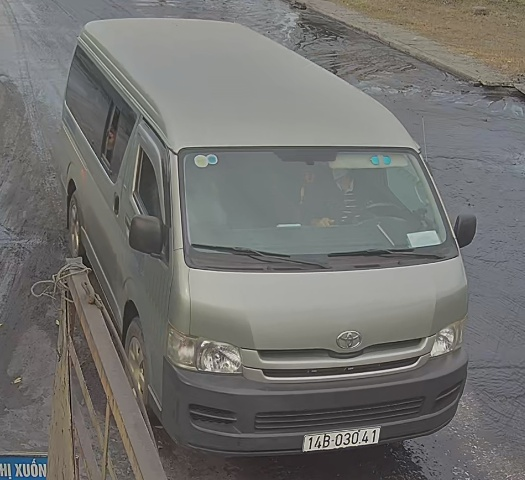vehicle plate: (301, 423, 383, 453)
